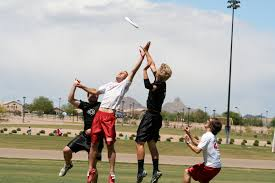disc: (124, 16, 141, 30)
